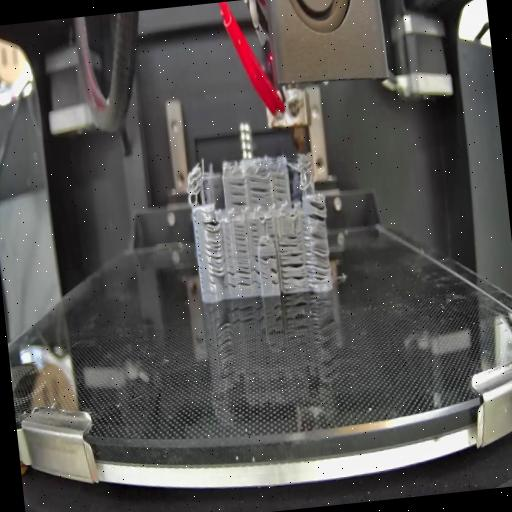cracks: (302, 232, 332, 284), (202, 218, 226, 280), (279, 251, 307, 292), (226, 174, 248, 210), (224, 260, 251, 289), (304, 196, 328, 226), (248, 178, 272, 206), (270, 174, 288, 202), (233, 224, 248, 257), (276, 232, 298, 250), (250, 256, 262, 288), (264, 216, 276, 238), (248, 220, 258, 244), (269, 267, 279, 287), (260, 254, 276, 264), (258, 240, 268, 248)
